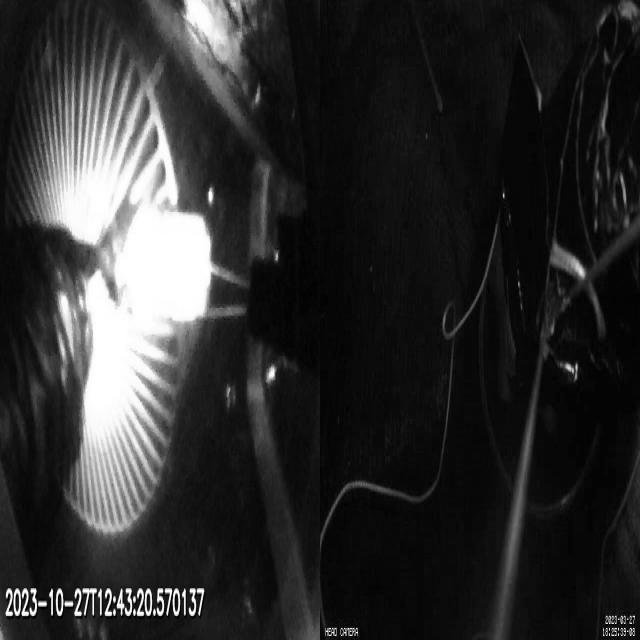head: (129, 207, 211, 326)
